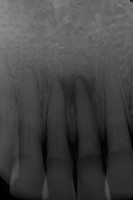Furcation Involvement: (58, 73, 96, 105)
